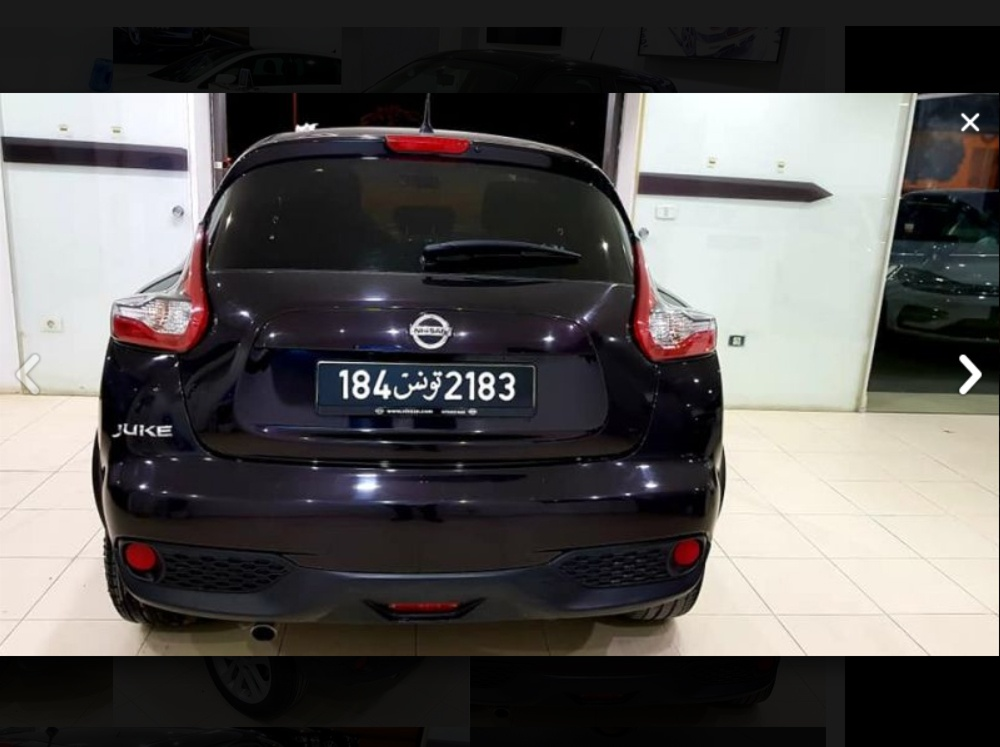LP: (311, 357, 540, 418)
